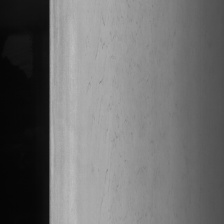silk_spot: (85, 0, 150, 209)
